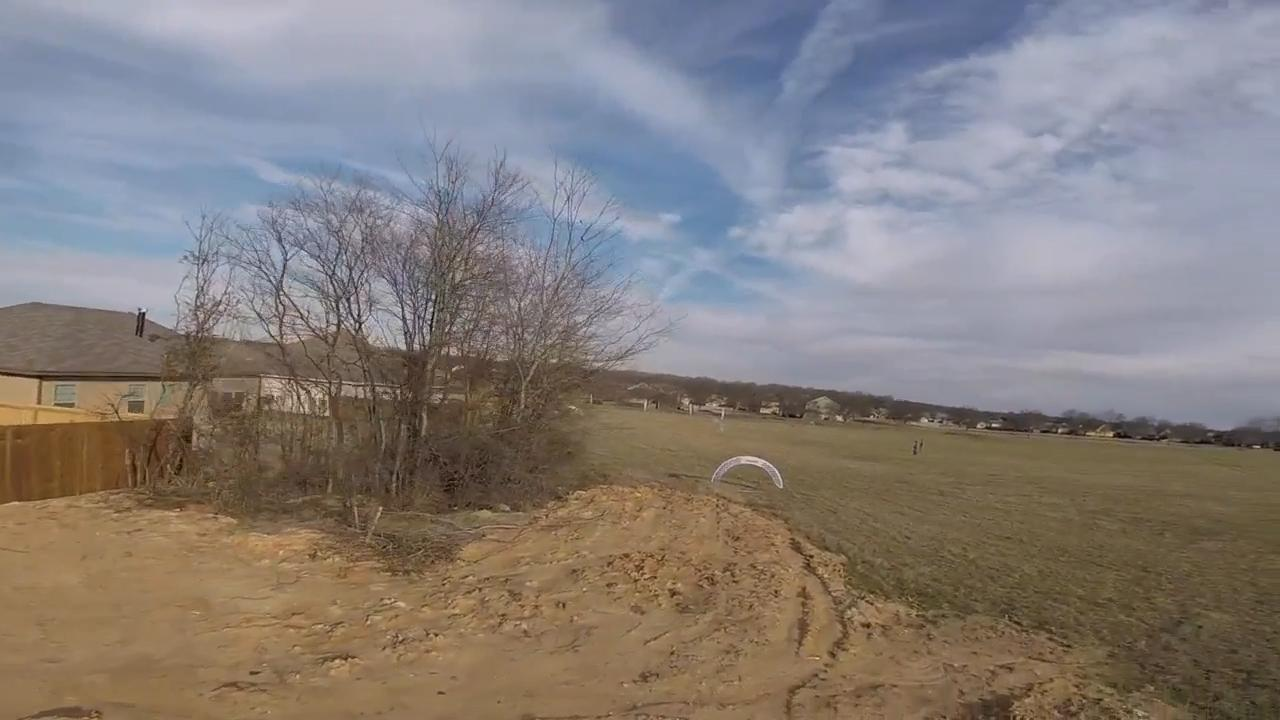gate: (711, 454, 785, 498)
